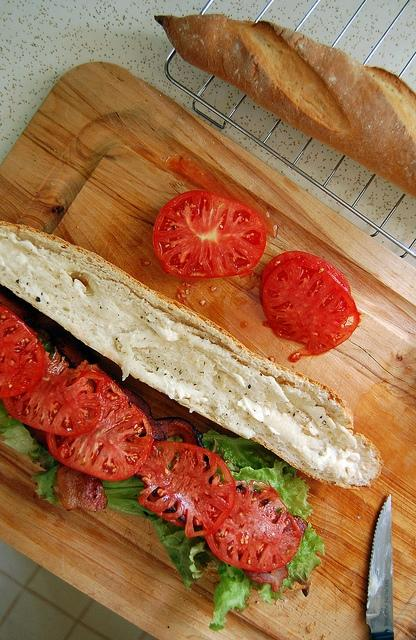lettuce: (144, 511, 218, 592), (258, 523, 326, 604), (230, 459, 313, 520), (202, 430, 298, 478), (209, 560, 252, 632), (104, 486, 156, 518), (30, 462, 61, 506), (2, 426, 38, 456), (28, 440, 60, 470), (166, 436, 184, 470)
tomato: (47, 372, 154, 482), (260, 257, 362, 363), (152, 190, 266, 280), (136, 441, 236, 538), (204, 479, 302, 572), (2, 352, 106, 437), (0, 305, 45, 398), (262, 250, 350, 294)
